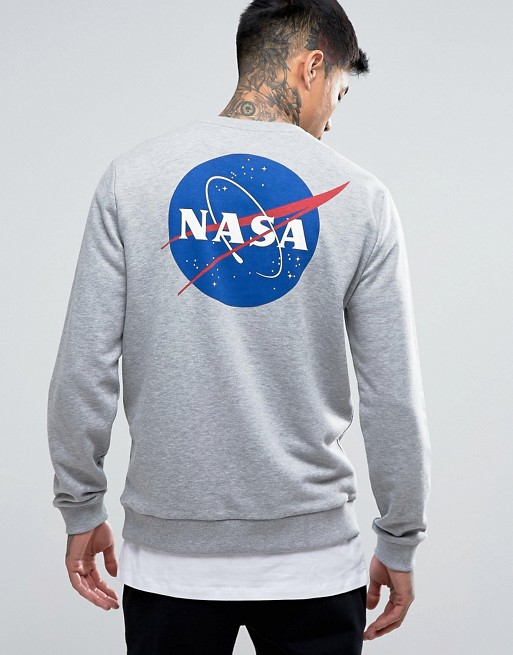NASA: (157, 148, 353, 310)
